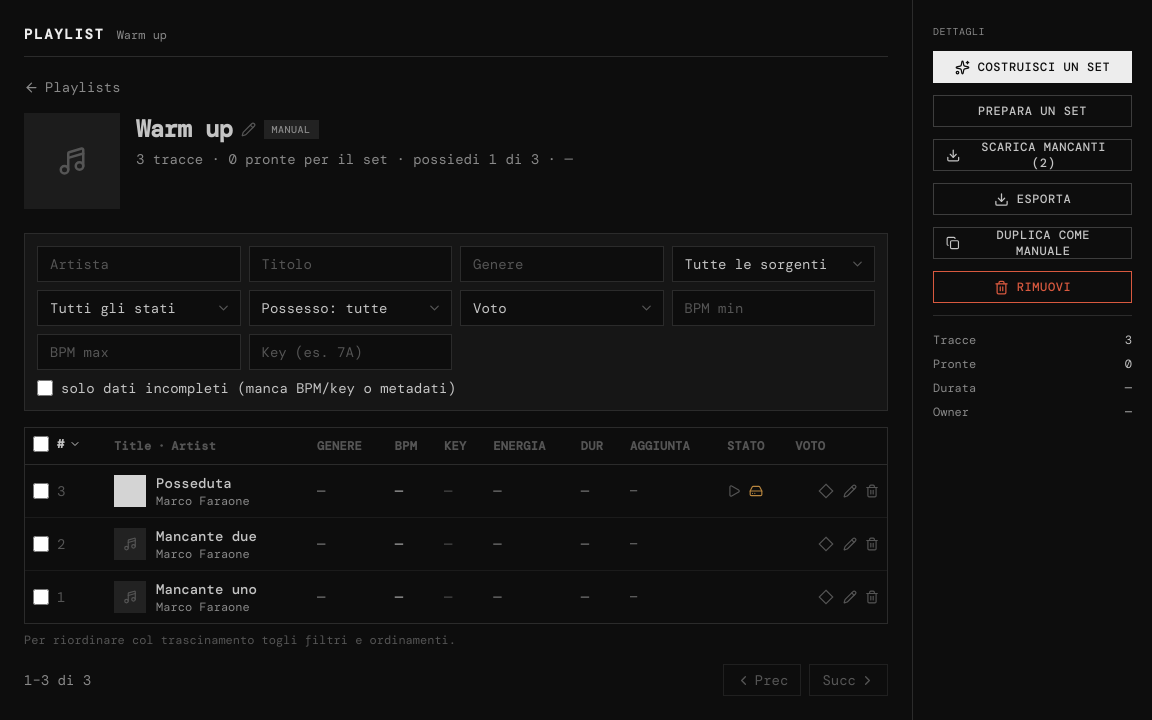
Test case: «Scarica» nella barra di selezione del dettaglio playlist › conta solo le selezionate senza file locale
Step 1. Click the checkbox named "Seleziona tutte le tracce visibili" → (41, 444), box [33,436,49,452]
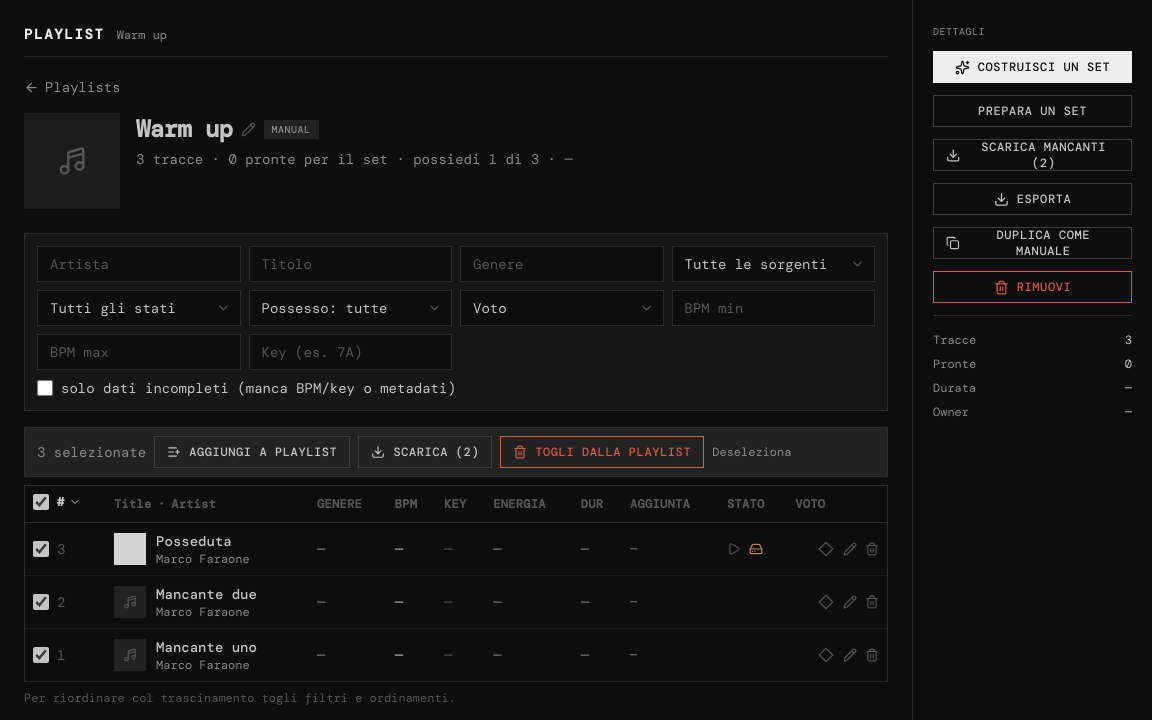
Expected: the button "Scarica (2)" is shown, [358,436,492,468]
